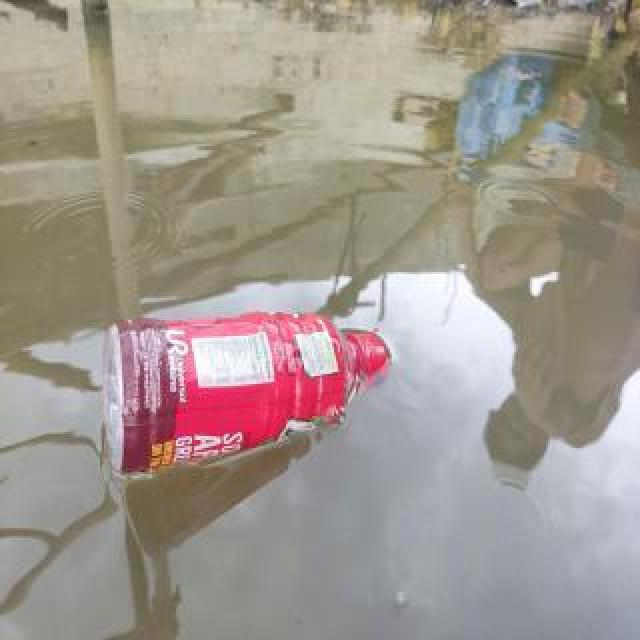bottle: (95, 306, 393, 482)
